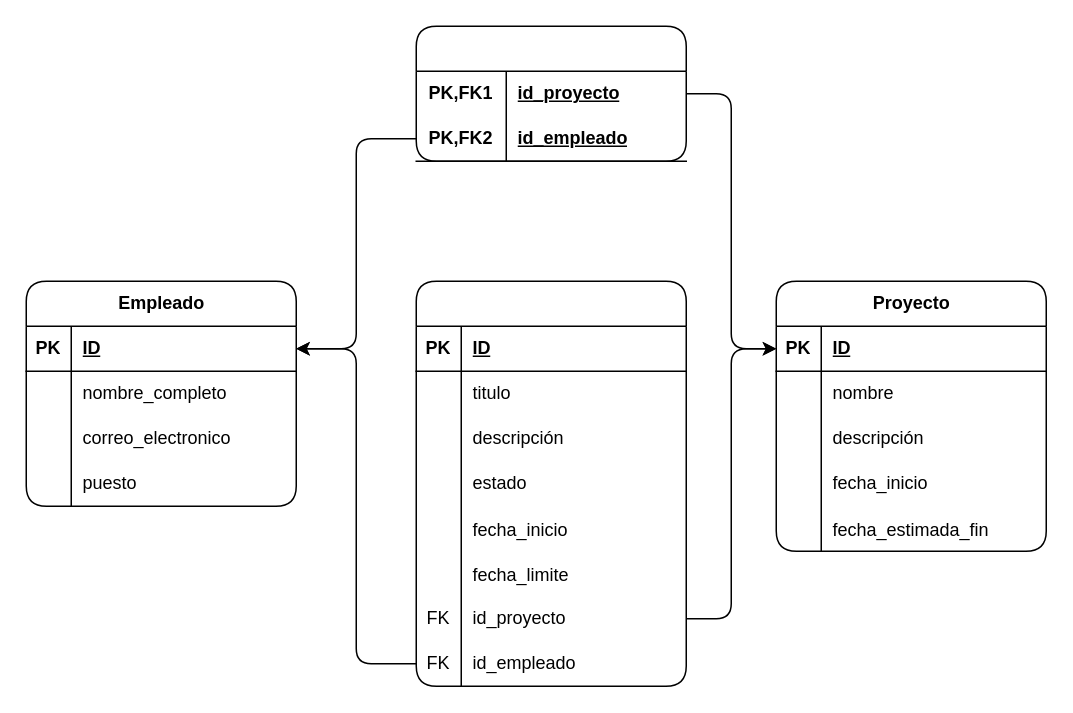
The diagram is 1073 pixels wide and 713 high, and some of its shapes have lost their labels. Each missing label, with the box of its shape:
Proyecto_Empleado: (415, 25, 686, 161)
Tarea: (415, 280, 686, 686)
